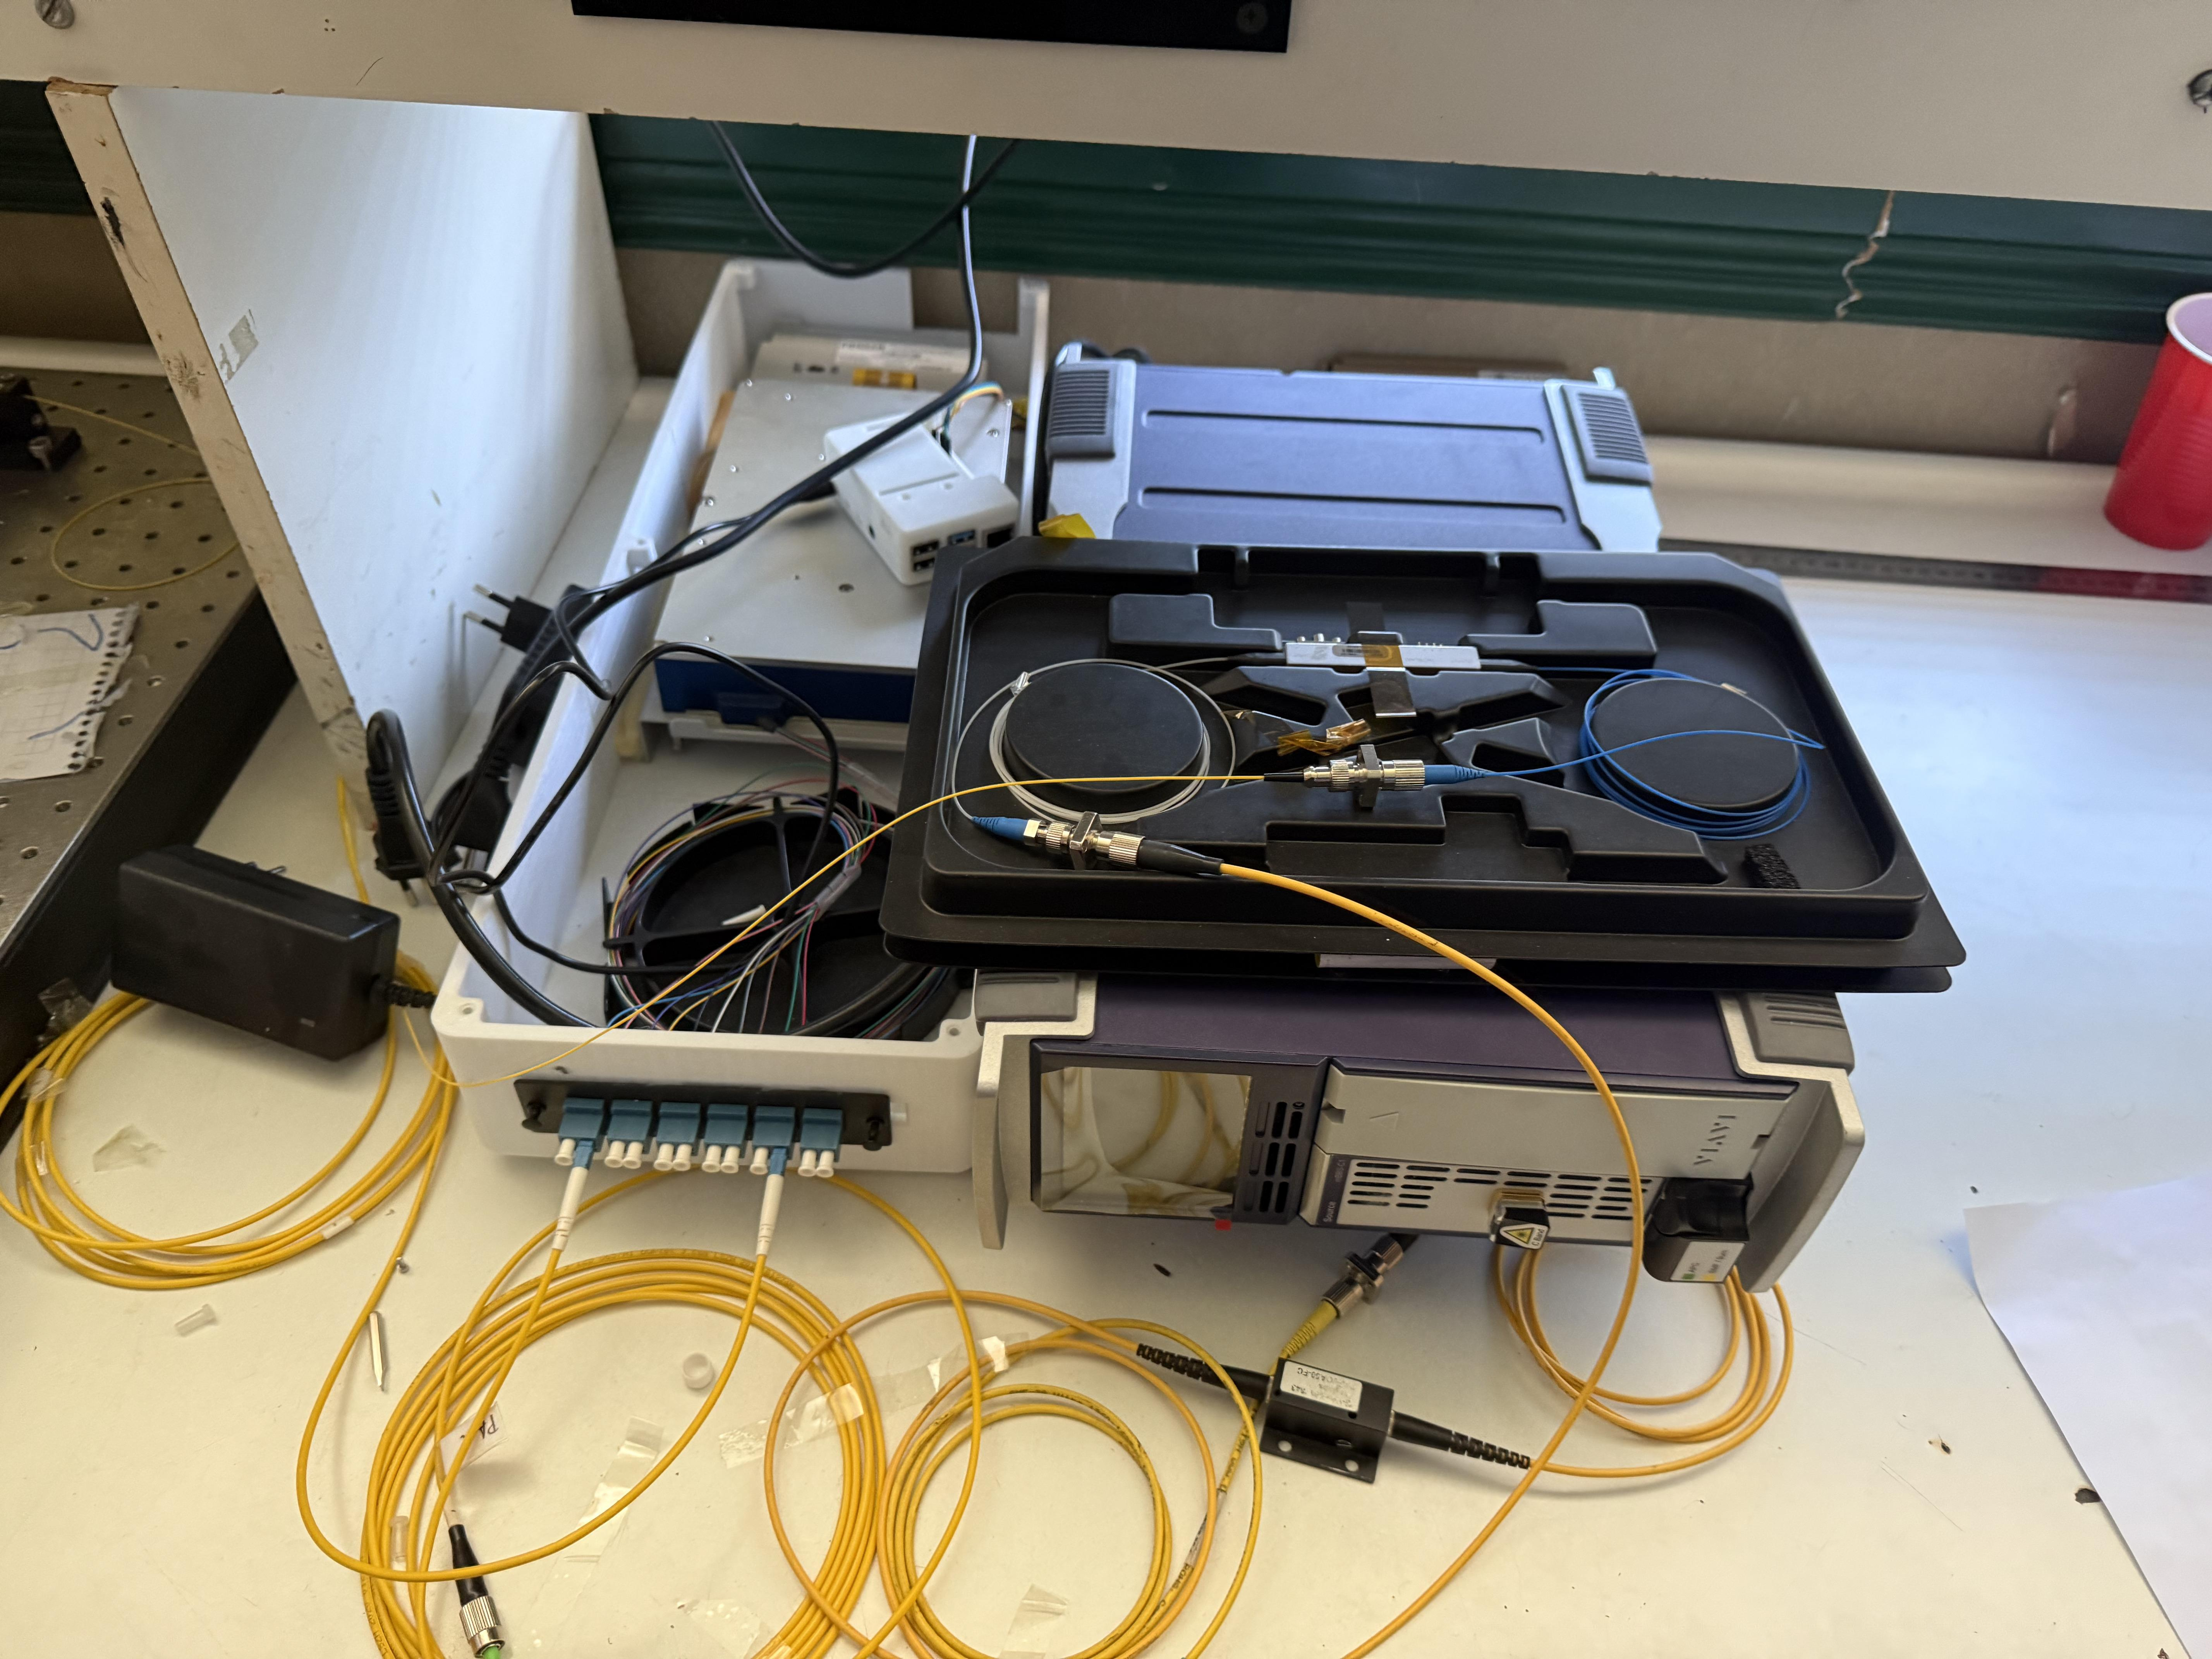laser: (939, 345, 1926, 1307)
